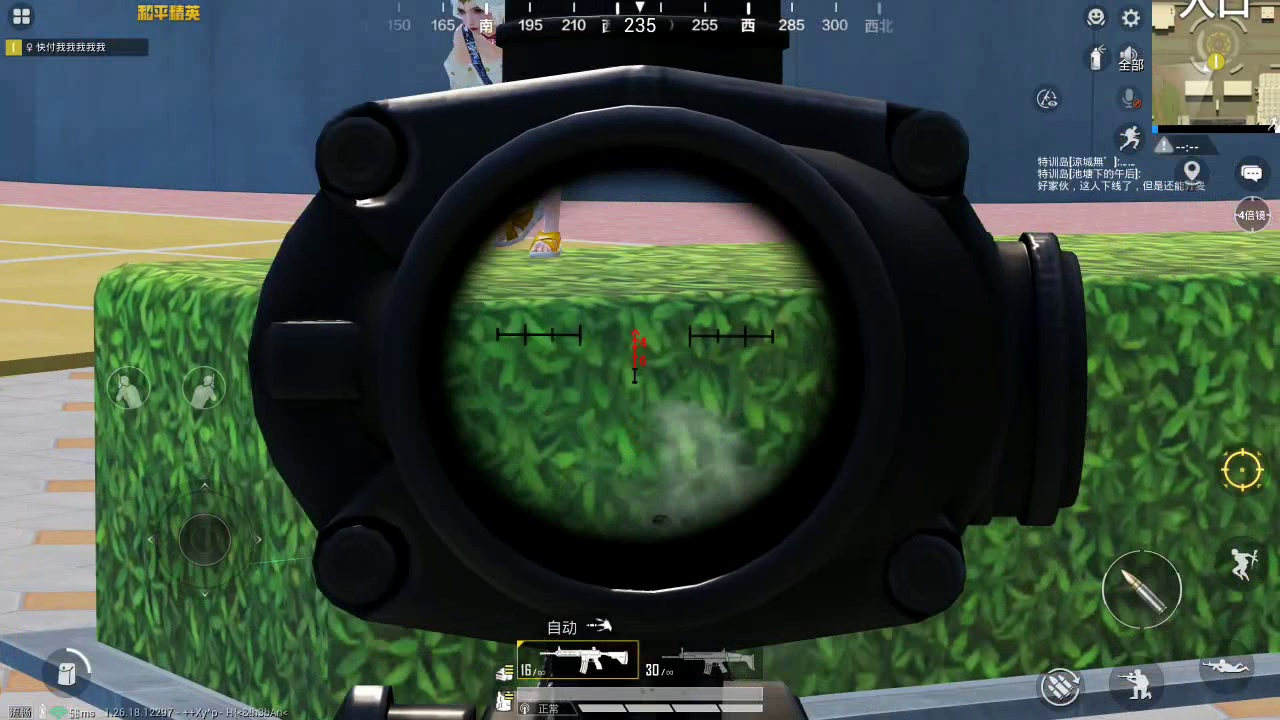enemy: (428, 1, 570, 265)
